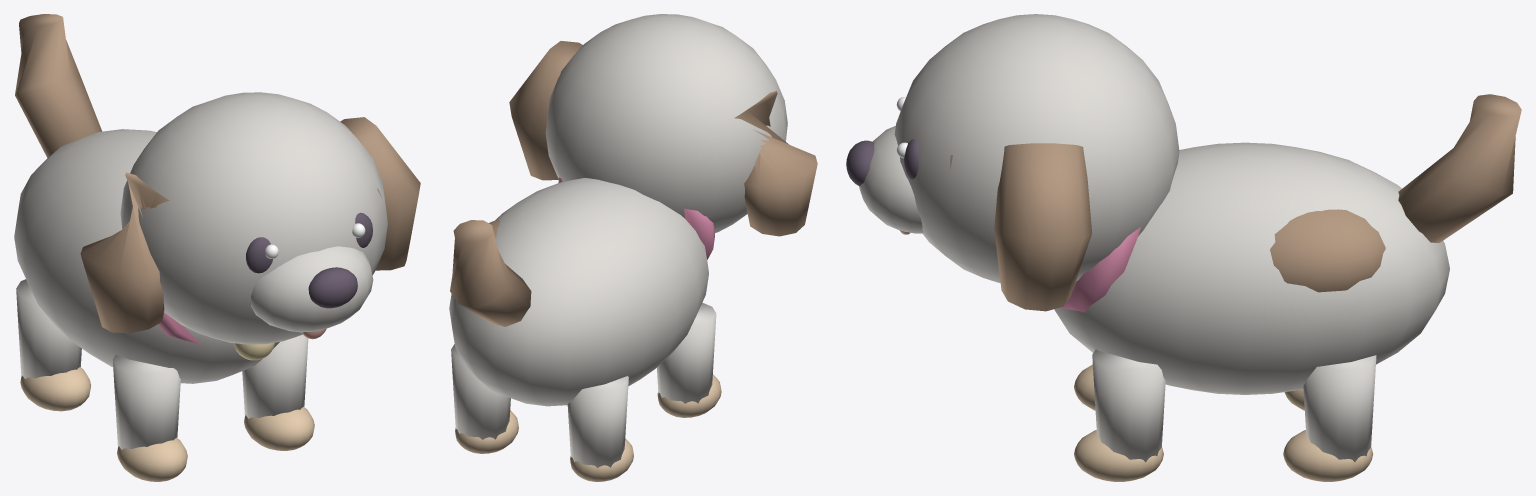
File: PetDog.fbx
3 renders of one model, left to right at view 1: azimuth 30°, elevation 25°; view 2: azimuth 150°, elevation 25°; view 3: azimuth 270°, elevation 25°, orthographic. The views are drawn at different scales.
Visible parts, largest first — view 1: Pipoca_Head, Pipoca_Body, Pipoca_Tail, Pipoca_EarL, Pipoca_LegFL, Pipoca_LegFR, Pipoca_LegBL, Pipoca_EarR; view 2: Pipoca_Body, Pipoca_Head, Pipoca_EarL, Pipoca_Tail, Pipoca_LegBL, Pipoca_LegFL, Pipoca_LegBR, Pipoca_EarR; view 3: Pipoca_Body, Pipoca_Head, Pipoca_EarR, Pipoca_Tail, Pipoca_LegFR, Pipoca_LegBR.
Part boxes in pixels (box(x1,y1,x2,y2)): Pipoca_Head: box(120, 92, 387, 344); Pipoca_Body: box(14, 129, 279, 383); Pipoca_Tail: box(15, 14, 102, 157); Pipoca_EarL: box(80, 172, 169, 333); Pipoca_LegFL: box(112, 354, 187, 481); Pipoca_LegFR: box(242, 334, 314, 450); Pipoca_LegBL: box(16, 279, 90, 411); Pipoca_EarR: box(340, 117, 420, 270); Pipoca_Body: box(449, 177, 714, 406); Pipoca_Head: box(545, 14, 787, 232); Pipoca_EarL: box(734, 91, 817, 236); Pipoca_Tail: box(450, 220, 531, 326); Pipoca_LegBL: box(567, 376, 633, 481); Pipoca_LegFL: box(657, 302, 721, 417); Pipoca_LegBR: box(451, 344, 518, 453); Pipoca_EarR: box(509, 41, 582, 180); Pipoca_Body: box(1054, 142, 1449, 394); Pipoca_Head: box(846, 14, 1179, 283); Pipoca_EarR: box(994, 143, 1092, 311); Pipoca_Tail: box(1398, 94, 1521, 242); Pipoca_LegFR: box(1074, 349, 1165, 481); Pipoca_LegBR: box(1283, 355, 1376, 481).
Bounding box in the file's own units: 0.5655 × 0.6352 × 0.9364.
